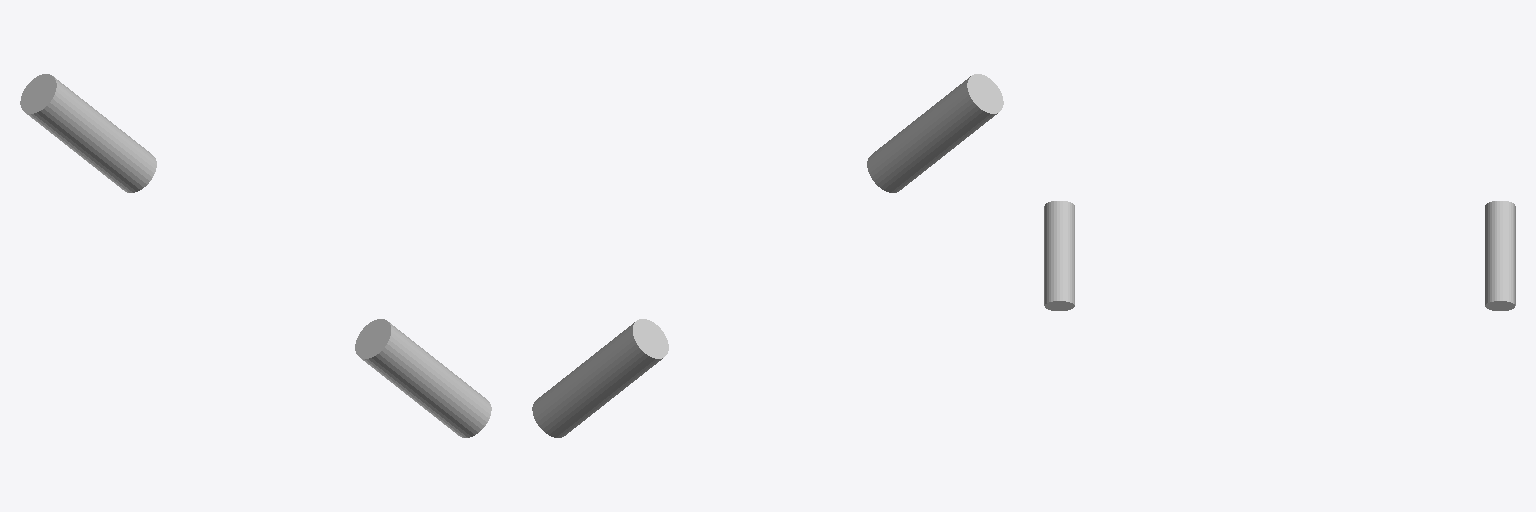
URDF robot description (bolt):
<?xml version="1.0" ?>
<!-- =================================================================================== -->
<!-- |    This document was autogenerated by xacro from /tmp/pip-req-build-ylxi0jvw/src/robot_properties_bolt/resources/xacro/bolt_passive_ankle.urdf.xacro | -->
<!-- |    EDITING THIS FILE BY HAND IS NOT RECOMMENDED                                 | -->
<!-- =================================================================================== -->
<robot name="bolt" xmlns:controller="http://playerstage.sourceforge.net/gazebo/xmlschema/#controller" xmlns:interface="http://playerstage.sourceforge.net/gazebo/xmlschema/#interface" xmlns:sensor="http://playerstage.sourceforge.net/gazebo/xmlschema/#sensor" xmlns:xacro="http://playerstage.sourceforge.net/gazebo/xmlschema/#interface">
  <!-- This file is based on: https://atlas.is.localnet/confluence/display/AMDW/Quadruped+URDF+Files -->
  <link name="base_link">
    <!-- BASE LINK INERTIAL -->
    <inertial>
      <origin rpy="0 0 0" xyz="0 0 0"/>
      <mass value="0.61436936"/>
      <!-- The base is extremely symmetrical. -->
      <inertia ixx="0.00578574" ixy="0.0" ixz="0.0" iyy="0.01938108" iyz="0.0" izz="0.02476124"/>
    </inertial>
    <!-- BASE LINK VISUAL -->
    <visual>
      <origin rpy="0 0 0" xyz="0 0 0"/>
      <geometry>
        <mesh filename="robots/bolt/bolt_description/meshes/stl/bolt_body.stl"/>
      </geometry>
      <material name="grey">
        <color rgba="0.8 0.8 0.8 1.0"/>
      </material>
    </visual>
    <!-- BASE LINK COLLISION -->
    <collision>
      <origin rpy="0 0 0" xyz="0 0 0"/>
      <geometry>
        <mesh filename="robots/bolt/bolt_description/meshes/stl/bolt_body.stl"/>
      </geometry>
      <material name="grey">
        <color rgba="0.8 0.8 0.8 1.0"/>
      </material>
    </collision>
    <!-- Bullet specific paramters -->
    <contact>
      <lateral_friction value="1.0"/>
      <restitution value="0.5"/>
    </contact>
  </link>
  <!-- END BASE LINK -->
  <!--xacro:property name="base_2_HAA_x" value="${2.45656 * 0.001}" />
  <xacro:property name="base_2_HAA_y" value="${63.6 * 0.001}" />
  <xacro:property name="base_2_HAA_z" value="${33.0809 * 0.001}" /-->
  <joint name="FL_HAA" type="revolute">
    <parent link="base_link"/>
    <child link="FL_SHOULDER"/>
    <limit effort="1000" lower="-10" upper="10" velocity="1000"/>
    <!-- joints rotates around the x-axis -->
    <axis xyz="1 0 0"/>
    <origin rpy="0 0 0" xyz="0.0 0.0636 0"/>
    <!--xacro:unless value="${is_right}">
        <origin xyz="${base_2_HAA_x} ${base_2_HAA_y + 0.0007888} ${-base_2_HAA_z}" rpy="0 0 0" />
      </xacro:unless>
      <xacro:if value="${is_right}">
        <origin xyz="${base_2_HAA_x} ${-base_2_HAA_y + 0.0007888} ${-base_2_HAA_z}" rpy="0 0 0" />
      </xacro:if-->
    <!-- pybullet simulation parameters -->
    <dynamics damping="0.0" friction="0.0"/>
  </joint>
  <link name="FL_SHOULDER">
    <!-- TODO: Update inertias and add visuals for link. -->
    <!-- create a dummy shoulder link to join the two joints -->
    <inertial>
      <!-- Left upper leg inertia -->
      <mass value="0.14004265"/>
      <origin rpy="0 0 0" xyz="0.01708256 -0.00446892 -0.01095830"/>
      <inertia ixx="0.00007443" ixy="0.00000148" ixz="0.00002154" iyy="0.00013847" iyz="-0.00001096" izz="0.00009002"/>
    </inertial>
    <!-- HIP LEG LINK VISUAL -->
    <visual>
      <origin rpy="0 0 0" xyz="0 0 0"/>
      <geometry>
        <mesh filename="robots/bolt/bolt_description/meshes/stl/bolt_hip_fe_left_side.stl"/>
      </geometry>
      <material name="grey">
        <color rgba="0.8 0.8 0.8 1.0"/>
      </material>
    </visual>
    <!-- UPPER LEG LINK COLLISION -->
    <collision>
      <origin rpy="0 0 0" xyz="0 0 0"/>
      <geometry>
        <mesh filename="robots/bolt/bolt_description/meshes/stl/bolt_hip_fe_left_side.stl"/>
      </geometry>
      <material name="grey">
        <color rgba="0.8 0.8 0.8 1.0"/>
      </material>
    </collision>
    <!-- Bullet specific paramters -->
    <contact>
      <lateral_friction value="1.0"/>
      <restitution value="0.5"/>
    </contact>
  </link>
  <joint name="FL_HFE" type="revolute">
    <parent link="FL_SHOULDER"/>
    <child link="FL_UPPER_LEG"/>
    <limit effort="1000" lower="-10" upper="10" velocity="1000"/>
    <!-- joints rotates around the y-axis -->
    <axis xyz="0 1 0"/>
    <origin rpy="0 0 0" xyz="0 0.0145 -0.0386"/>
    <!-- pybullet simulation parameters -->
    <dynamics damping="0.0" friction="0.0"/>
  </joint>
  <link name="FL_UPPER_LEG">
    <!-- Left upper leg inertia -->
    <inertial>
      <origin rpy="0 0 0" xyz="0.00001377 0.01935853 -0.11870700"/>
      <mass value="0.14853845"/>
      <inertia ixx="0.00041107" ixy="0.00000000" ixz="0.00000009" iyy="0.00041193" iyz="-0.00004671" izz="0.00003024"/>
    </inertial>
    <!-- UPPER LEG LINK VISUAL -->
    <visual>
      <origin rpy="0 0 0" xyz="0 0 0"/>
      <geometry>
        <mesh filename="robots/bolt/bolt_description/meshes/stl/upper_leg_200mm_left_side.stl"/>
      </geometry>
      <material name="grey">
        <color rgba="0.8 0.8 0.8 1.0"/>
      </material>
    </visual>
    <!-- UPPER LEG LINK COLLISION -->
    <collision>
      <origin rpy="0 0 0" xyz="0 0 0"/>
      <geometry>
        <mesh filename="robots/bolt/bolt_description/meshes/stl/upper_leg_200mm_left_side.stl"/>
      </geometry>
      <material name="grey">
        <color rgba="0.8 0.8 0.8 1.0"/>
      </material>
    </collision>
    <!-- Bullet specific paramters -->
    <contact>
      <lateral_friction value="1.0"/>
      <restitution value="0.5"/>
    </contact>
  </link>
  <!-- END UPPER LEG LINK -->
  <!-- KFE: Joint between the upper leg and the lower leg -->
  <joint name="FL_KFE" type="revolute">
    <parent link="FL_UPPER_LEG"/>
    <child link="FL_LOWER_LEG"/>
    <limit effort="1000" lower="-10" upper="10" velocity="1000"/>
    <!-- joints rotates around the y-axis -->
    <axis xyz="0 1 0"/>
    <origin rpy="0 0 0" xyz="0 0.0374 -0.2"/>
    <!-- pybullet simulation parameters -->
    <dynamics damping="0.0" friction="0.0"/>
  </joint>
  <link name="FL_LOWER_LEG">
    <!-- Left lower leg inertia -->
    <inertial>
      <origin rpy="0 0 0" xyz="0.0 0.00836718 -0.11591877"/>
      <mass value="0.03117243"/>
      <inertia ixx="0.00011487" ixy="0.00000000" ixz="0.00000000" iyy="0.00011556" iyz="-0.00000190" izz="0.00000220"/>
    </inertial>
    <!-- LOWER LEG LINK VISUAL -->
    <visual>
      <origin rpy="0 0 0" xyz="0 0 0"/>
      <geometry>
        <mesh filename="robots/bolt/bolt_description/meshes/stl/lower_leg_200mm_left_side.stl"/>
      </geometry>
      <material name="grey">
        <color rgba="0.8 0.8 0.8 1.0"/>
      </material>
    </visual>
    <!-- LOWER LEG LINK COLLISION -->
    <collision>
      <origin rpy="0 0 0" xyz="0 0 0"/>
      <geometry>
        <mesh filename="robots/bolt/bolt_description/meshes/stl/lower_leg_200mm_left_side.stl"/>
      </geometry>
      <material name="grey">
        <color rgba="0.8 0.8 0.8 1.0"/>
      </material>
    </collision>
    <!-- Bullet specific paramters -->
    <contact>
      <lateral_friction value="1.0"/>
      <restitution value="0.5"/>
    </contact>
  </link>
  <!-- END LOWER LEG LINK -->
  <!-- ANKLE: Joint between the lower leg and the foot -->
  <joint name="FL_ANKLE" type="revolute">
    <parent link="FL_LOWER_LEG"/>
    <child link="FL_FOOT"/>
    <origin rpy="0 0 0" xyz="0 0.008 -0.2"/>
    <!-- joints rotates around the y-axis -->
    <axis xyz="0 1 0"/>
    <!-- Limits (usefull?) -->
    <limit effort="1000" lower="-10" upper="10" velocity="1000"/>
    <!-- pybullet simulation parameters -->
    <dynamics damping="0.0" friction="0.0"/>
  </joint>
  <link name="FL_FOOT">
    <!-- FOOT INERTIAL -->
    <!-- This link is symmetrical left or right -->
    <inertial>
      <origin rpy="0 0 0" xyz="0 0 0.00035767"/>
      <mass value="0.00010"/>
      <inertia ixx="0.00000057" ixy="0.0" ixz="0.0" iyy="0.00000084" iyz="0.0" izz="0.00000053"/>
    </inertial>
    <!-- FOOT VISUAL -->
    <visual>
      <origin rpy="0 2.35 0." xyz="0 0 -0.01"/>
      <geometry>
        <cylinder length="0.06" radius="0.0085"/>
      </geometry>
      <material name="grey">
        <color rgba="0.8 0.8 0.8 1.0"/>
      </material>
    </visual>
    <!-- FOOT COLLISION -->
    <collision>
      <origin rpy="0 2.35 0." xyz="0 0 -0.01"/>
      <geometry>
        <cylinder length="0.06" radius="0.0085"/>
      </geometry>
      <material name="grey">
        <color rgba="0.8 0.8 0.8 1.0"/>
      </material>
    </collision>
    <!-- Bullet specific paramters -->
    <contact>
      <lateral_friction value="4.0"/>
      <restitution value="0.0"/>
    </contact>
  </link>
  <!-- END FOOT LINK -->
  <joint name="FR_HAA" type="revolute">
    <parent link="base_link"/>
    <child link="FR_SHOULDER"/>
    <limit effort="1000" lower="-10" upper="10" velocity="1000"/>
    <!-- joints rotates around the x-axis -->
    <axis xyz="1 0 0"/>
    <origin rpy="0 0 0" xyz="0.0 -0.0636 0"/>
    <!--xacro:unless value="${is_right}">
        <origin xyz="${base_2_HAA_x} ${base_2_HAA_y + 0.0007888} ${-base_2_HAA_z}" rpy="0 0 0" />
      </xacro:unless>
      <xacro:if value="${is_right}">
        <origin xyz="${base_2_HAA_x} ${-base_2_HAA_y + 0.0007888} ${-base_2_HAA_z}" rpy="0 0 0" />
      </xacro:if-->
    <!-- pybullet simulation parameters -->
    <dynamics damping="0.0" friction="0.0"/>
  </joint>
  <link name="FR_SHOULDER">
    <!-- TODO: Update inertias and add visuals for link. -->
    <!-- create a dummy shoulder link to join the two joints -->
    <inertial>
      <!-- Right upper leg inertia -->
      <mass value="0.14004412"/>
      <origin rpy="0 0 0" xyz="0.01708233 0.00447099 -0.01095846"/>
      <inertia ixx="0.00007442" ixy="-0.00000148" ixz="0.00002154" iyy="0.00013848" iyz="0.00001095" izz="0.00009001"/>
    </inertial>
    <!-- HIP LEG LINK VISUAL -->
    <visual>
      <origin rpy="0 0 0" xyz="0 0 0"/>
      <geometry>
        <mesh filename="robots/bolt/bolt_description/meshes/stl/bolt_hip_fe_right_side.stl"/>
      </geometry>
      <material name="grey">
        <color rgba="0.8 0.8 0.8 1.0"/>
      </material>
    </visual>
    <!-- UPPER LEG LINK COLLISION -->
    <collision>
      <origin rpy="0 0 0" xyz="0 0 0"/>
      <geometry>
        <mesh filename="robots/bolt/bolt_description/meshes/stl/bolt_hip_fe_right_side.stl"/>
      </geometry>
      <material name="grey">
        <color rgba="0.8 0.8 0.8 1.0"/>
      </material>
    </collision>
    <!-- Bullet specific paramters -->
    <contact>
      <lateral_friction value="1.0"/>
      <restitution value="0.5"/>
    </contact>
  </link>
  <joint name="FR_HFE" type="revolute">
    <parent link="FR_SHOULDER"/>
    <child link="FR_UPPER_LEG"/>
    <limit effort="1000" lower="-10" upper="10" velocity="1000"/>
    <!-- joints rotates around the y-axis -->
    <axis xyz="0 1 0"/>
    <origin rpy="0 0 0" xyz="0 -0.0145 -0.0386"/>
    <!-- pybullet simulation parameters -->
    <dynamics damping="0.0" friction="0.0"/>
  </joint>
  <link name="FR_UPPER_LEG">
    <!-- Right upper leg inertia -->
    <inertial>
      <origin rpy="0 0 0" xyz="-0.00001377 -0.01935853 -0.11870700"/>
      <mass value="0.14853845"/>
      <inertia ixx="0.00041107" ixy="0.00000000" ixz="-0.00000009" iyy="0.00041193" iyz="0.00004671" izz="0.00003024"/>
    </inertial>
    <!-- UPPER LEG LINK VISUAL -->
    <visual>
      <origin rpy="0 0 0" xyz="0 0 0"/>
      <geometry>
        <mesh filename="robots/bolt/bolt_description/meshes/stl/upper_leg_200mm_right_side.stl"/>
      </geometry>
      <material name="grey">
        <color rgba="0.8 0.8 0.8 1.0"/>
      </material>
    </visual>
    <!-- UPPER LEG LINK COLLISION -->
    <collision>
      <origin rpy="0 0 0" xyz="0 0 0"/>
      <geometry>
        <mesh filename="robots/bolt/bolt_description/meshes/stl/upper_leg_200mm_right_side.stl"/>
      </geometry>
      <material name="grey">
        <color rgba="0.8 0.8 0.8 1.0"/>
      </material>
    </collision>
    <!-- Bullet specific paramters -->
    <contact>
      <lateral_friction value="1.0"/>
      <restitution value="0.5"/>
    </contact>
  </link>
  <!-- END UPPER LEG LINK -->
  <!-- KFE: Joint between the upper leg and the lower leg -->
  <joint name="FR_KFE" type="revolute">
    <parent link="FR_UPPER_LEG"/>
    <child link="FR_LOWER_LEG"/>
    <limit effort="1000" lower="-10" upper="10" velocity="1000"/>
    <!-- joints rotates around the y-axis -->
    <axis xyz="0 1 0"/>
    <origin rpy="0 0 0" xyz="0 -0.0374 -0.2"/>
    <!-- pybullet simulation parameters -->
    <dynamics damping="0.0" friction="0.0"/>
  </joint>
  <link name="FR_LOWER_LEG">
    <!-- Right lower leg inertia -->
    <inertial>
      <origin rpy="0 0 0" xyz="0.0 -0.00836718 -0.11591877"/>
      <mass value="0.03117243"/>
      <inertia ixx="0.00011487" ixy="0.00000000" ixz="0.00000000" iyy="0.00011556" iyz="0.00000190" izz="0.00000220"/>
    </inertial>
    <!-- LOWER LEG LINK VISUAL -->
    <visual>
      <origin rpy="0 0 0" xyz="0 0 0"/>
      <geometry>
        <mesh filename="robots/bolt/bolt_description/meshes/stl/lower_leg_200mm_right_side.stl"/>
      </geometry>
      <material name="grey">
        <color rgba="0.8 0.8 0.8 1.0"/>
      </material>
    </visual>
    <!-- LOWER LEG LINK COLLISION -->
    <collision>
      <origin rpy="0 0 0" xyz="0 0 0"/>
      <geometry>
        <mesh filename="robots/bolt/bolt_description/meshes/stl/lower_leg_200mm_right_side.stl"/>
      </geometry>
      <material name="grey">
        <color rgba="0.8 0.8 0.8 1.0"/>
      </material>
    </collision>
    <!-- Bullet specific paramters -->
    <contact>
      <lateral_friction value="1.0"/>
      <restitution value="0.5"/>
    </contact>
  </link>
  <!-- END LOWER LEG LINK -->
  <!-- ANKLE: Joint between the lower leg and the foot -->
  <joint name="FR_ANKLE" type="revolute">
    <parent link="FR_LOWER_LEG"/>
    <child link="FR_FOOT"/>
    <origin rpy="0 0 0" xyz="0 -0.008 -0.2"/>
    <!-- joints rotates around the y-axis -->
    <axis xyz="0 1 0"/>
    <!-- Limits (usefull?) -->
    <limit effort="1000" lower="-10" upper="10" velocity="1000"/>
    <!-- pybullet simulation parameters -->
    <dynamics damping="0.0" friction="0.0"/>
  </joint>
  <link name="FR_FOOT">
    <!-- FOOT INERTIAL -->
    <!-- This link is symmetrical left or right -->
    <inertial>
      <origin rpy="0 0 0" xyz="0 0 0.00035767"/>
      <mass value="0.00010"/>
      <inertia ixx="0.00000057" ixy="0.0" ixz="0.0" iyy="0.00000084" iyz="0.0" izz="0.00000053"/>
    </inertial>
    <!-- FOOT VISUAL -->
    <visual>
      <origin rpy="0 2.35 0." xyz="0 0 -0.01"/>
      <geometry>
        <cylinder length="0.06" radius="0.0085"/>
      </geometry>
      <material name="grey">
        <color rgba="0.8 0.8 0.8 1.0"/>
      </material>
    </visual>
    <!-- FOOT COLLISION -->
    <collision>
      <origin rpy="0 2.35 0." xyz="0 0 -0.01"/>
      <geometry>
        <cylinder length="0.06" radius="0.0085"/>
      </geometry>
      <material name="grey">
        <color rgba="0.8 0.8 0.8 1.0"/>
      </material>
    </collision>
    <!-- Bullet specific paramters -->
    <contact>
      <lateral_friction value="4.0"/>
      <restitution value="0.0"/>
    </contact>
  </link>
  <!-- END FOOT LINK -->
</robot>

--- Render facts (derived) ---
Views: 3 orthographic renders of the robot side by side, from view 1: azimuth 30°, elevation 25°; view 2: azimuth 150°, elevation 25°; view 3: azimuth 270°, elevation 25°.
Robot: bolt — 9 links, 8 joints (8 revolute); root link base_link; default pose: every joint at zero.
Links seen in each view (by area): view 1: FL_FOOT, FR_FOOT; view 2: FL_FOOT, FR_FOOT; view 3: FL_FOOT, FR_FOOT.
Link boxes in pixels (bbox=[...]): FL_FOOT: bbox=[20, 74, 156, 192]; FR_FOOT: bbox=[355, 319, 491, 437]; FL_FOOT: bbox=[532, 319, 668, 437]; FR_FOOT: bbox=[867, 74, 1003, 192]; FL_FOOT: bbox=[1485, 201, 1515, 310]; FR_FOOT: bbox=[1044, 201, 1074, 310].
Size in the robot's own frame: 0.0546 by 0.264 by 0.0543 metres.
Meshes: 7 distinct files referenced, 0 mesh visuals loaded (none loaded); not drawn: 7 (reference not matched to a file when rendering).